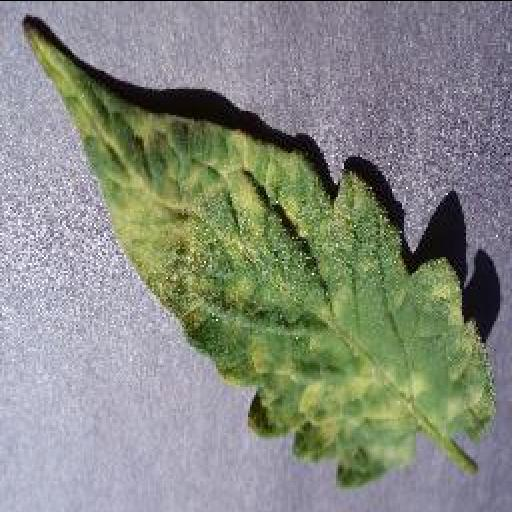disease_tomato: (20, 22, 498, 488)
